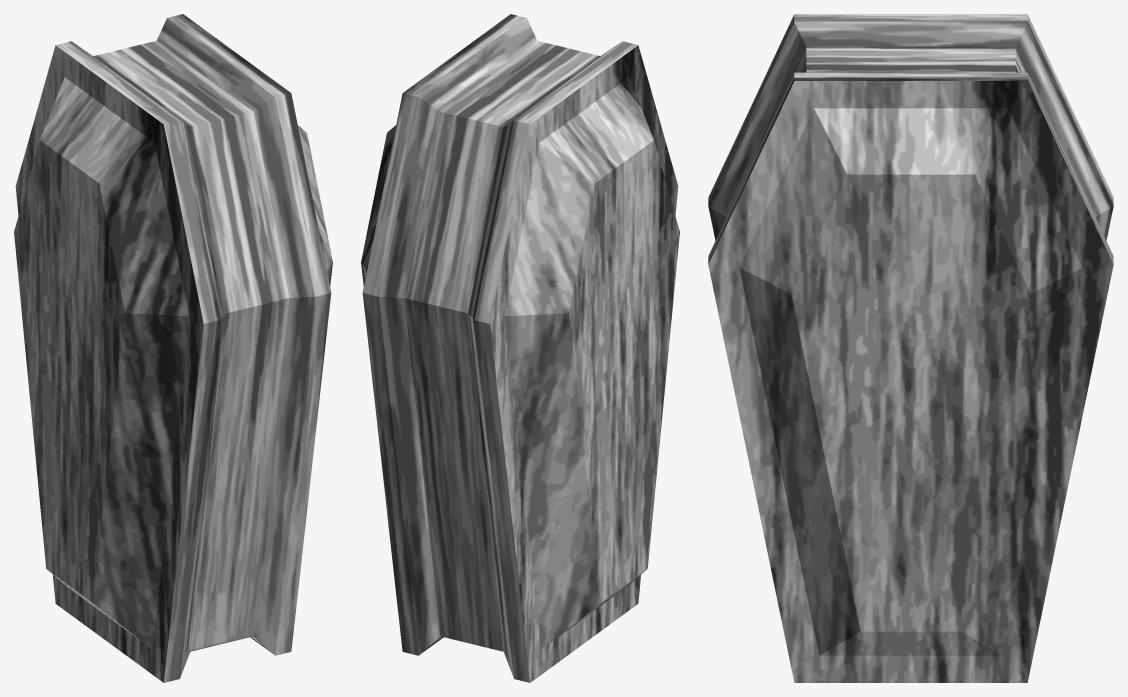
Rendered from pickupCoffin.fbx.
3 views of the same model, side by side, from view 1: azimuth 30°, elevation 25°; view 2: azimuth 150°, elevation 25°; view 3: azimuth 270°, elevation 25° (orthographic). The views are drawn at different scales.
Visible parts, largest first — view 1: Cube; view 2: Cube; view 3: Cube.
Boxes of the visible parts, box(x1,y1,x2,y2) form: Cube: box(14, 14, 332, 682); Cube: box(361, 14, 679, 682); Cube: box(708, 14, 1113, 682).
Bounding box in the file's own units: 129 × 332 × 203.
